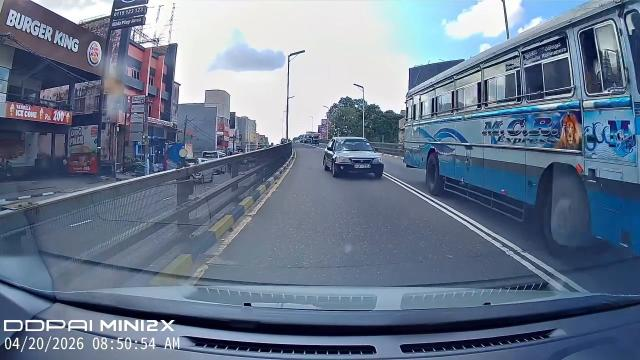illegal overtaking: (319, 129, 391, 186)
number plate: (351, 160, 375, 171)
